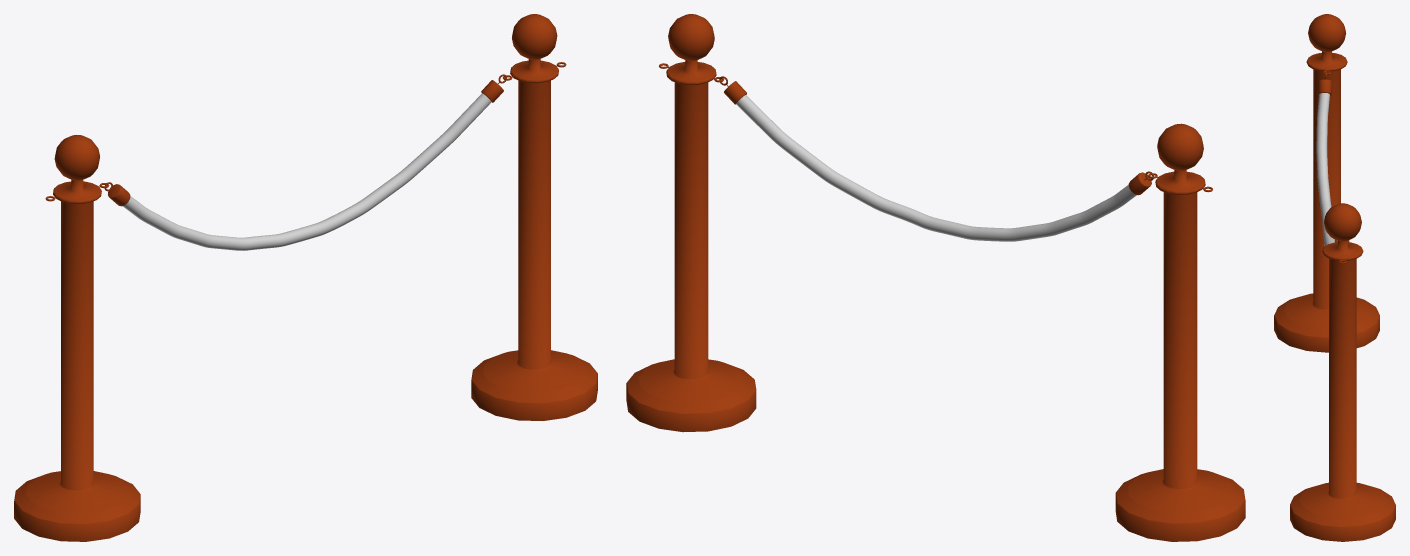
The model's file is fence.obj.
The picture shows the model from 3 angles, left to right: view 1: azimuth 30°, elevation 25°; view 2: azimuth 150°, elevation 25°; view 3: azimuth 270°, elevation 25°; orthographic projection. The views are drawn at different scales.
Parts seen in each view (by area): view 1: pau, pay_2, corda; view 2: pay_2, pau, corda; view 3: pay_2, pau, corda.
Boxes of the visible parts, box(x1,y1,x2,y2) form: pau: box(14, 135, 140, 541); pay_2: box(471, 14, 597, 420); corda: box(104, 74, 506, 250); pay_2: box(626, 14, 756, 432); pau: box(1115, 123, 1245, 541); corda: box(719, 76, 1153, 241); pay_2: box(1290, 203, 1395, 541); pau: box(1274, 14, 1379, 352); corda: box(1316, 71, 1349, 246).
Bounding box in the file's own units: 1.57 × 0.9811 × 0.3446.
